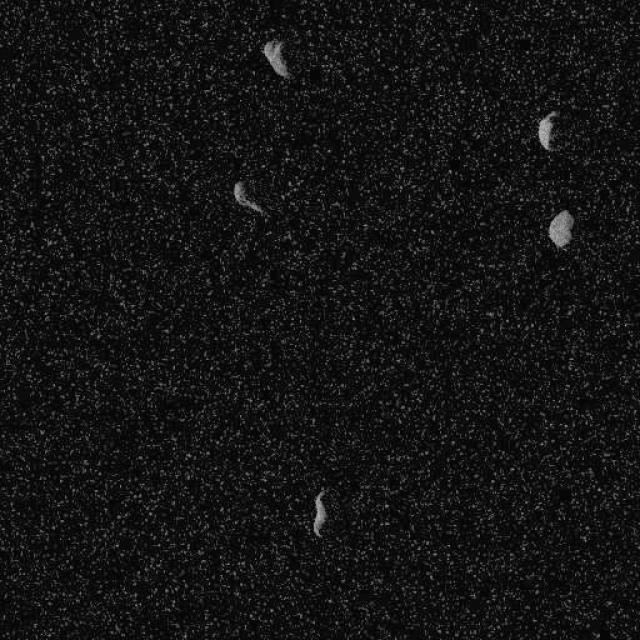D2: (232, 179, 268, 219), (261, 38, 291, 78), (546, 209, 574, 249), (536, 110, 559, 151), (312, 488, 328, 536)
